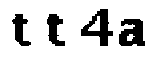4: (78, 6, 114, 50)
a: (117, 16, 147, 51)
t: (9, 12, 34, 51), (43, 12, 68, 48)
